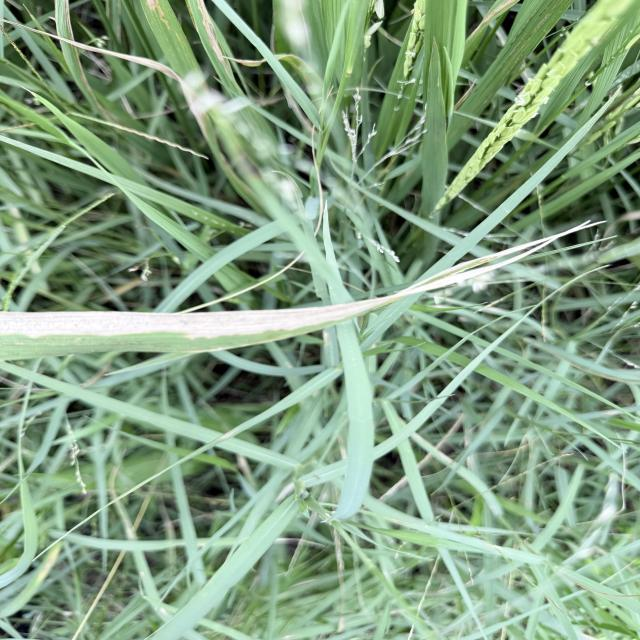Chay bia la: (3, 223, 603, 342)
